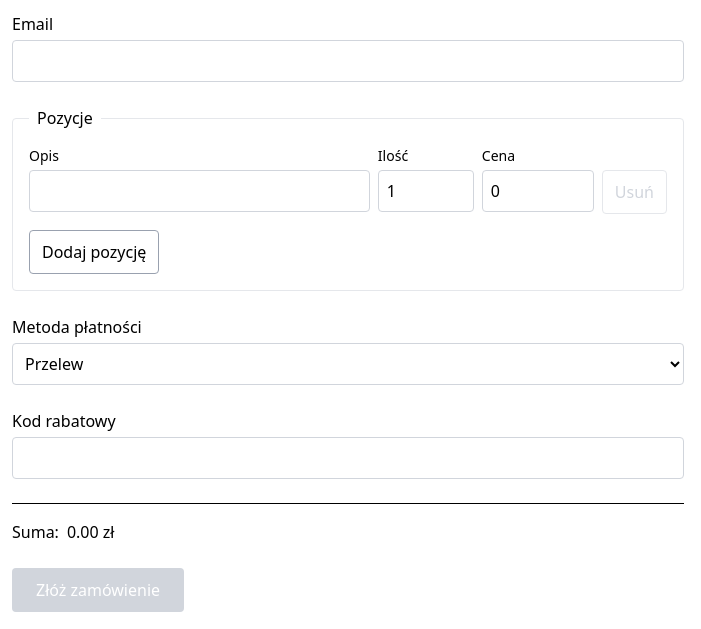
Test: OrderForm › updates the total as the user types
In the field labelled "Opis": {"x": 199, "y": 191} [29,170,370,212], type "Klawiatura"
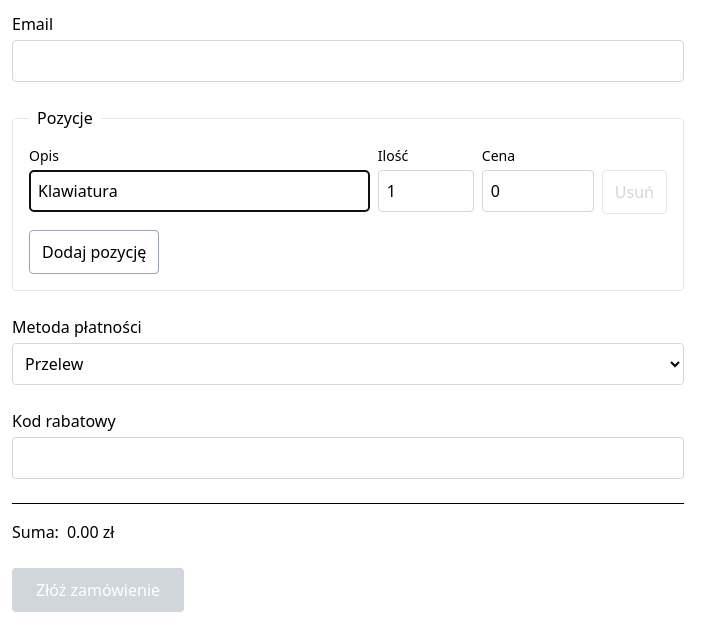
Replace the text in the number field labelled "Ilość" with "2": {"x": 426, "y": 191} [378,170,474,212]
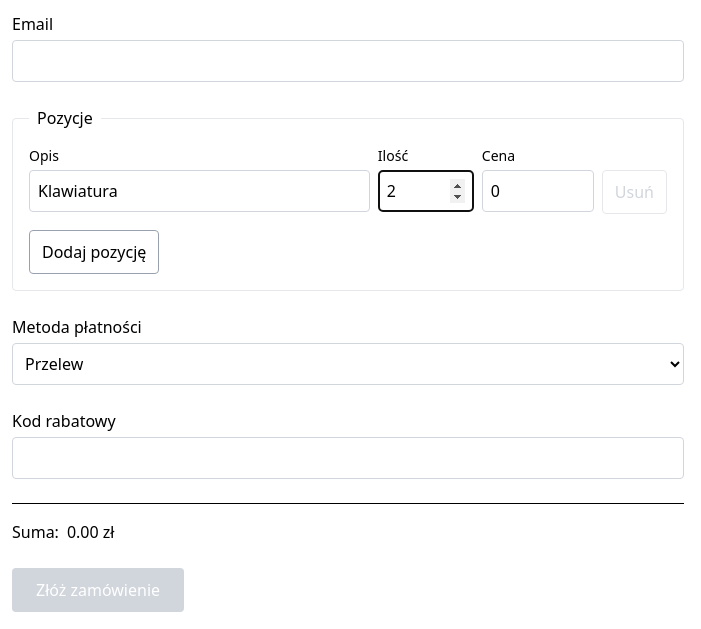
Replace the text in the number field labelled "Cena" with "150": {"x": 538, "y": 191} [482,170,594,212]
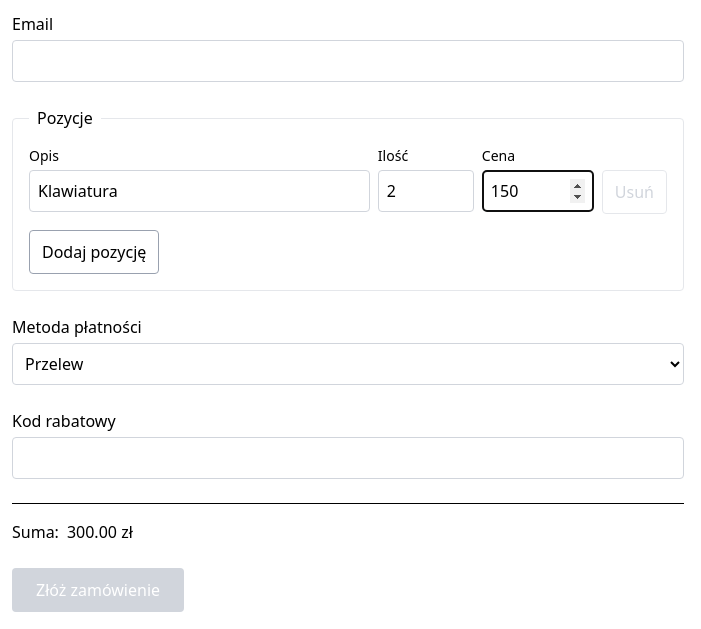
Expected: the text "Suma:" is shown, [12,520,59,544]
Expected: the text "300.00 zł" is shown, [67,520,133,544]
